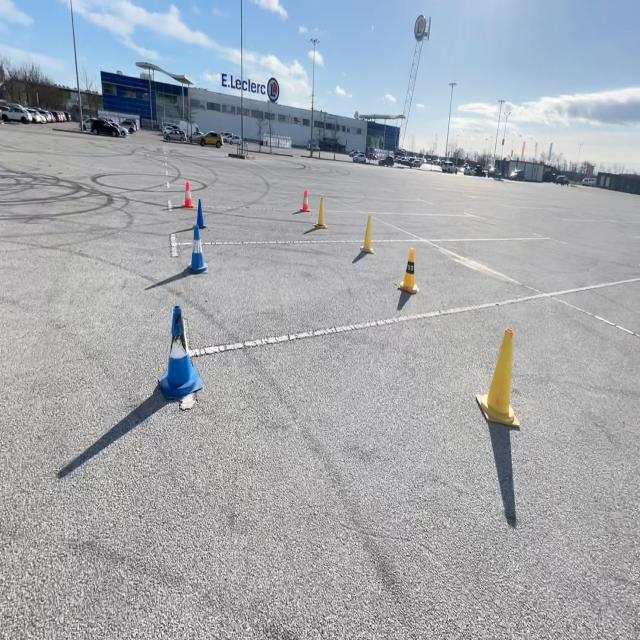blue_cone: (157, 301, 202, 404), (185, 208, 208, 272), (194, 196, 206, 234)
orange_cone: (182, 179, 196, 208), (300, 189, 310, 212)
yellow_cone: (474, 325, 520, 428), (396, 246, 419, 295), (359, 212, 375, 254), (314, 195, 326, 229)
